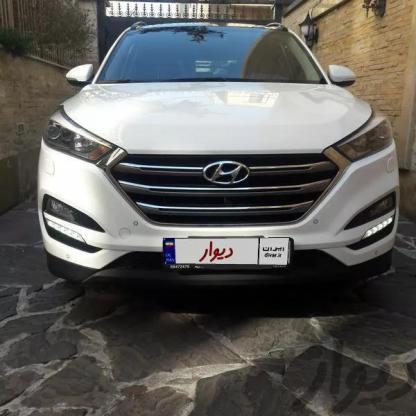Car: (44, 22, 407, 329)
